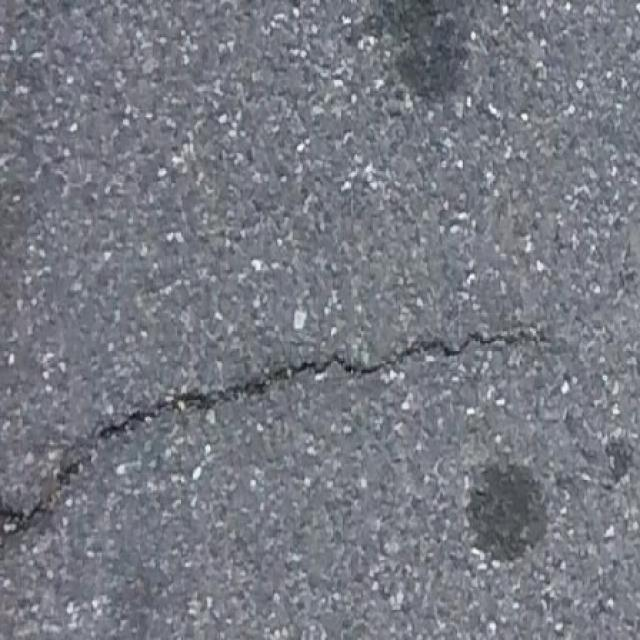Horizontal Crack: (1, 328, 573, 550)
